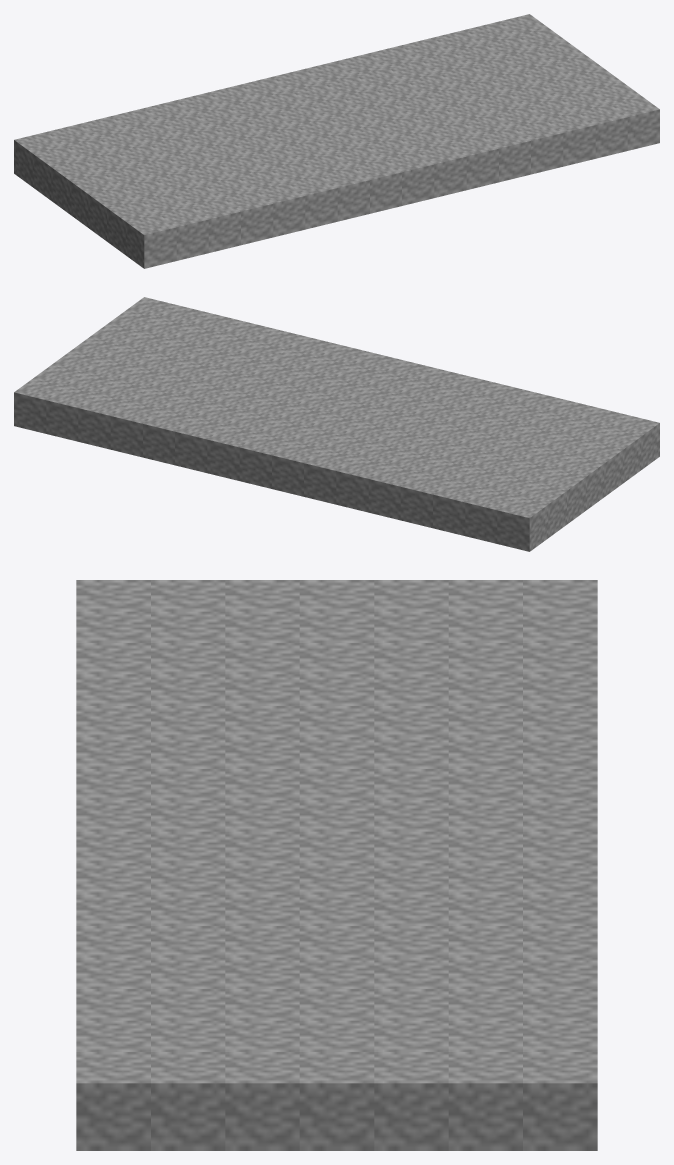
File: stone_platform.fbx
3 views of the same model, one above another, from view 1: azimuth 30°, elevation 25°; view 2: azimuth 150°, elevation 25°; view 3: azimuth 270°, elevation 25° (orthographic). The views are drawn at different scales.
Visible parts, largest first — view 1: Cube.007; view 2: Cube.007; view 3: Cube.007.
Boxes of the visible parts, bbox=[...] form: Cube.007: bbox=[14, 14, 659, 268]; Cube.007: bbox=[14, 297, 659, 551]; Cube.007: bbox=[76, 580, 597, 1150].
Bounding box in the file's own units: 3200 × 200 × 1400.
